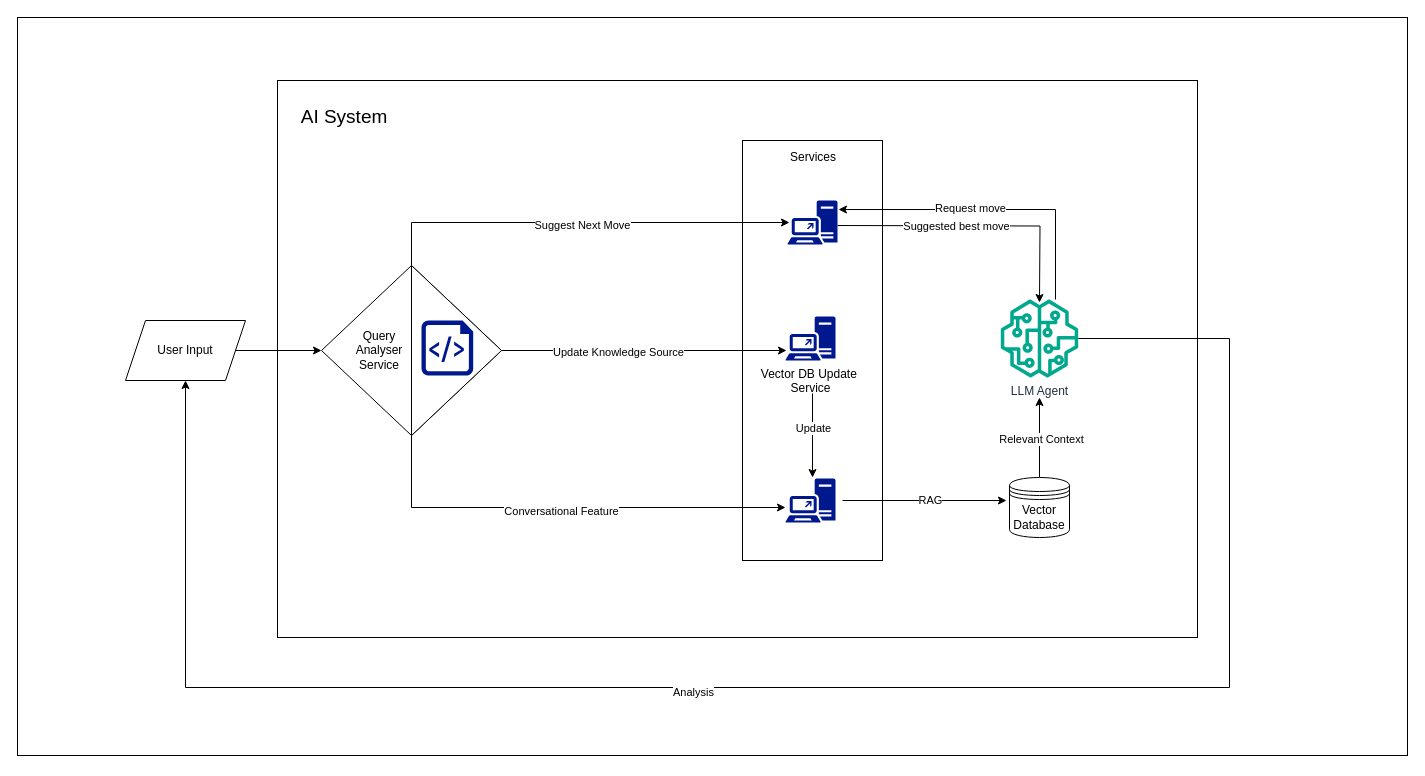
The diagram is 1425 pixels wide and 776 high, and some of its shapes have lost their labels. The shapes that lost their labels are listed below. From the top down, each one's centre as x and y in pixels, then its label:
At pixel 812 222: "Chess Engine Service".
At pixel 810 500: "Database Service".
